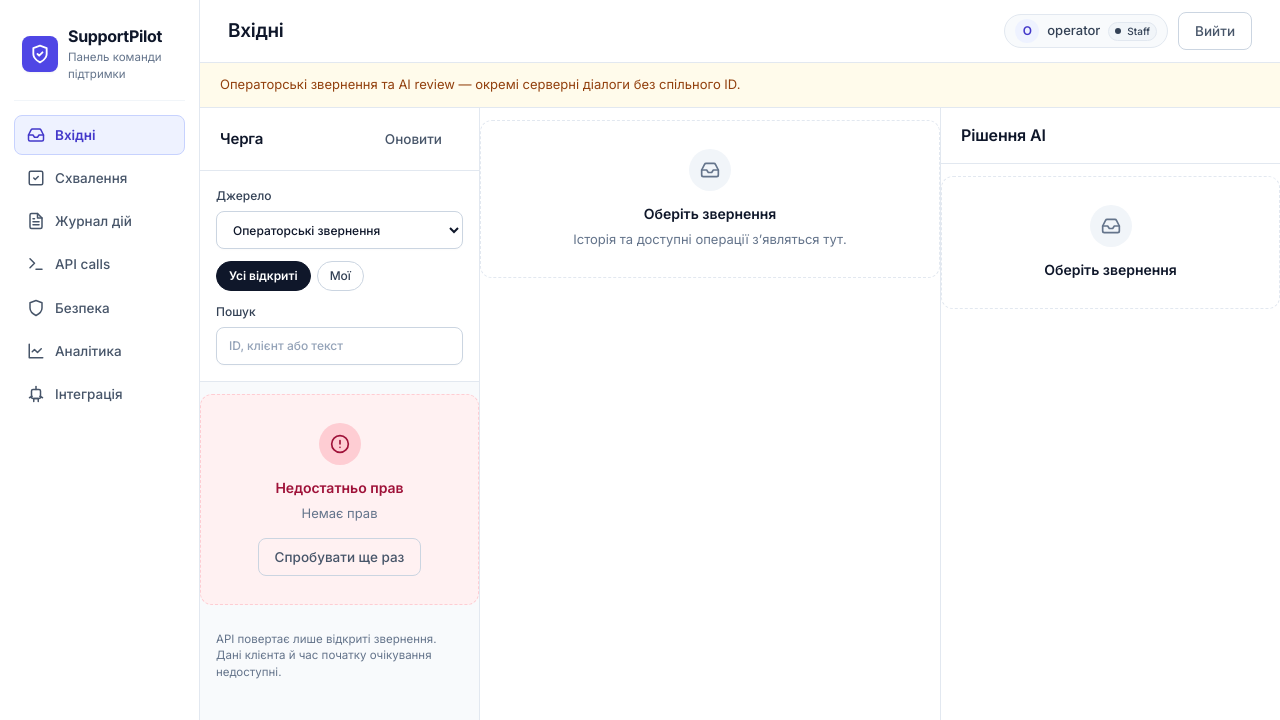
it: a permission 403 retains the valid session and a 404 is never an empty queue
Check: the text "Недостатньо прав" is shown, box [275,477,404,498]
Select "AI review" in the dropdown named "Джерело звернень": {"x": 340, "y": 230} [216,211,463,249]
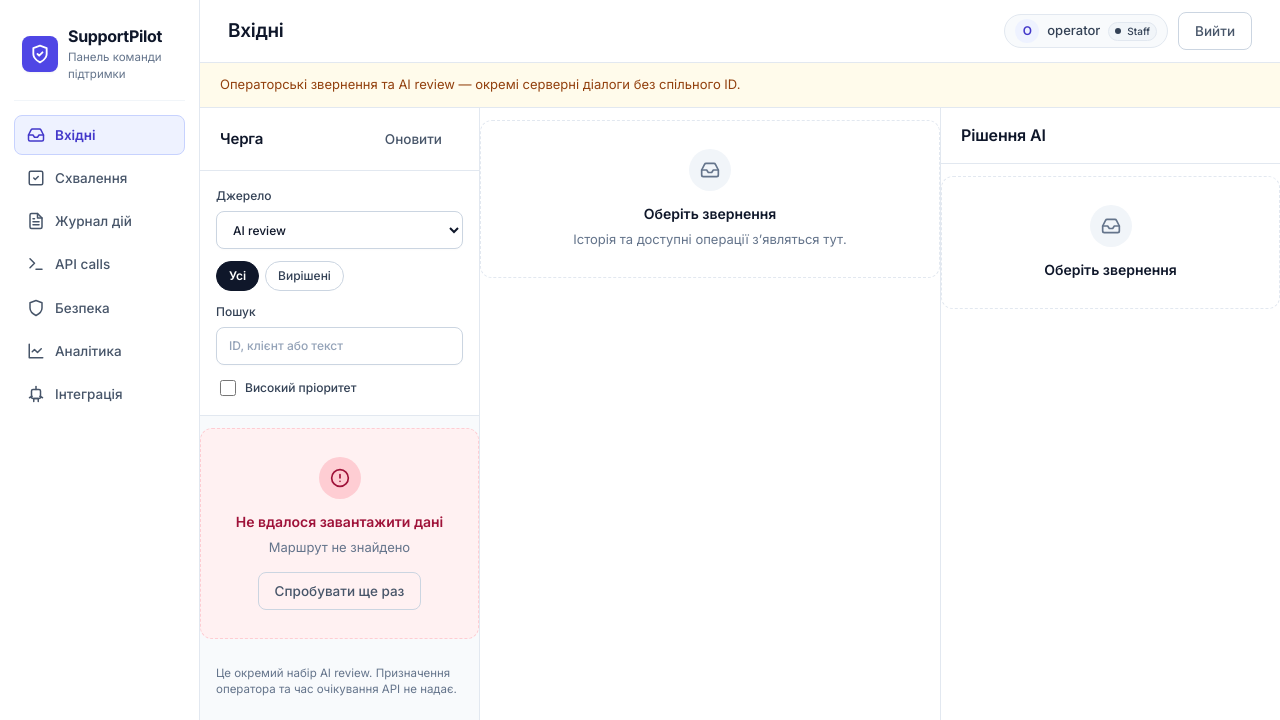
Check: the text "Маршрут не знайдено" is shown, box [269,538,410,558]
